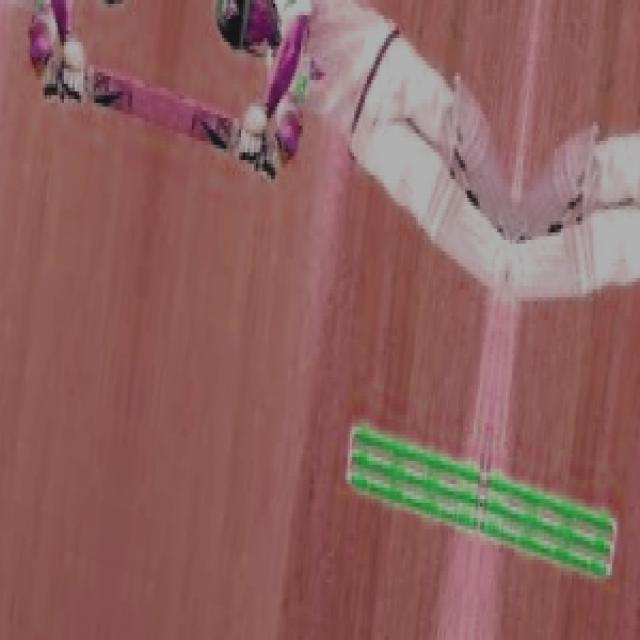toe: (149, 87, 166, 133)
